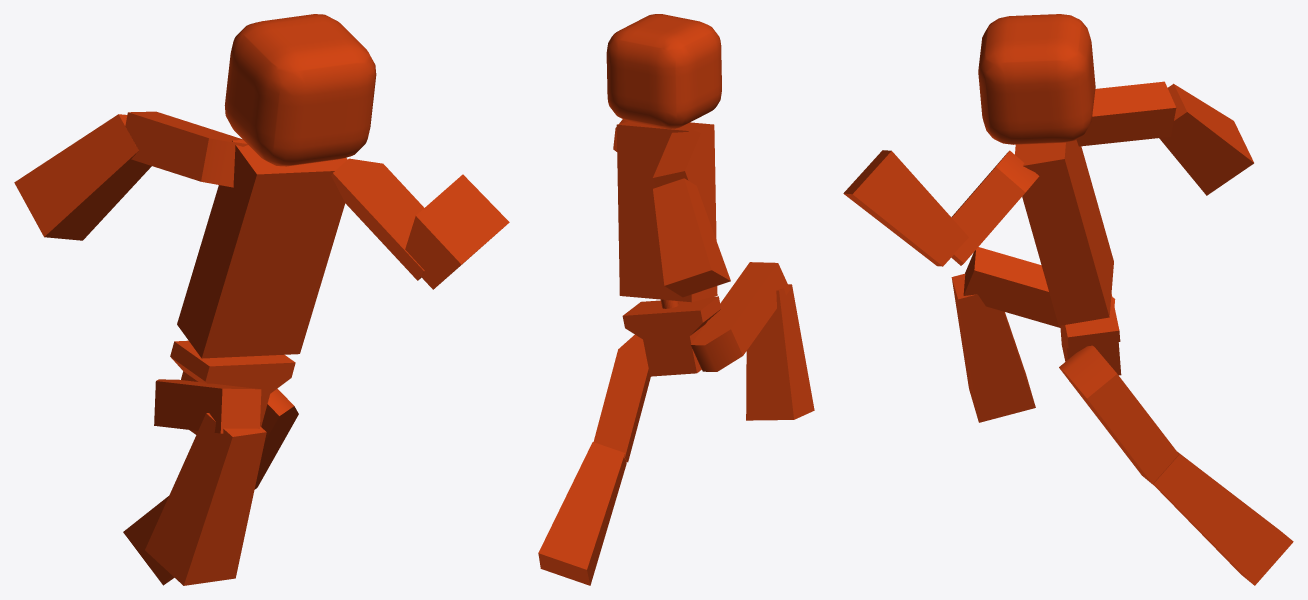
The model's file is StickmanOrangeNewest.obj.
3 renders of one model, left to right at view 1: azimuth 30°, elevation 25°; view 2: azimuth 150°, elevation 25°; view 3: azimuth 270°, elevation 25°, orthographic. The views are drawn at different scales.
Visible parts, largest first — view 1: Cube.015, Mball.001, Cube.012, Cube.016, Cube.018, Cube.017, Cube.019, Cube.011, Cube.014, Cube.013, Cube; view 2: Mball.001, Cube.015, Cube, Cube.012, Cube.016, Cube.011, Cube.014, Cube.013, Cube.017; view 3: Mball.001, Cube.015, Cube, Cube.012, Cube.018, Cube.013, Cube.016, Cube.017, Cube.011, Cube.019, Cube.014.
Boxes of the visible parts, x1,y1,x2,y2 form: Cube.015: (177, 140, 347, 358); Mball.001: (224, 14, 376, 166); Cube.012: (145, 413, 266, 585); Cube.016: (14, 114, 151, 240); Cube.018: (405, 174, 509, 289); Cube.017: (125, 111, 247, 187); Cube.019: (331, 158, 424, 280); Cube.011: (154, 379, 261, 433); Cube.014: (170, 340, 295, 434); Cube.013: (254, 388, 298, 489); Cube: (123, 496, 174, 585); Mball.001: (606, 14, 721, 128); Cube.015: (616, 121, 717, 302); Cube: (538, 442, 626, 585); Cube.012: (746, 284, 814, 420); Cube.016: (653, 178, 730, 297); Cube.011: (691, 262, 790, 371); Cube.014: (622, 296, 721, 376); Cube.013: (593, 335, 650, 462); Cube.017: (653, 127, 711, 192); Mball.001: (978, 14, 1095, 144); Cube.015: (1015, 140, 1113, 325); Cube: (1154, 451, 1293, 585); Cube.012: (951, 273, 1035, 422); Cube.018: (843, 150, 968, 266); Cube.013: (1059, 345, 1178, 484); Cube.016: (1159, 83, 1253, 195); Cube.017: (1076, 81, 1176, 146); Cube.011: (963, 247, 1115, 327); Cube.019: (951, 150, 1039, 265); Cube.014: (1060, 294, 1121, 381).
Size of the model in its own units: 5.85 by 12.52 by 9.17.
